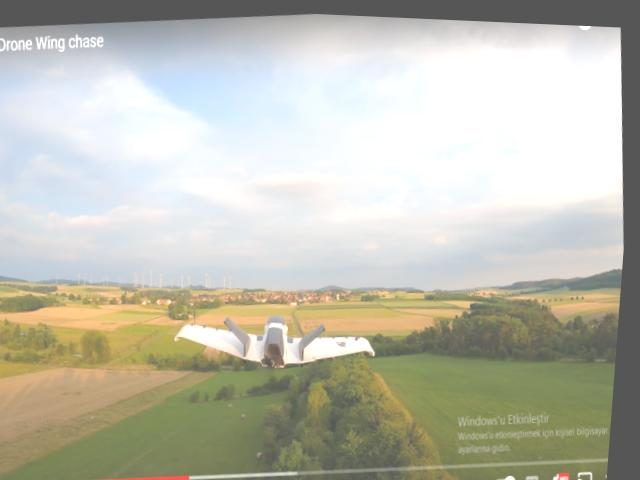plane: (175, 299, 383, 378)
